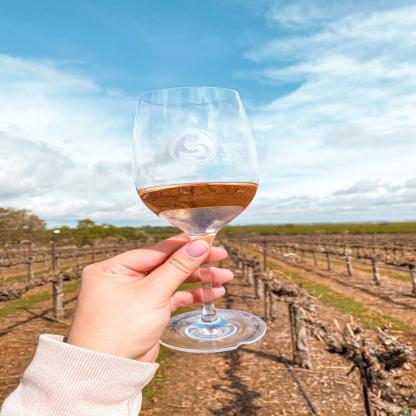alcohol_glass: (129, 85, 270, 355)
